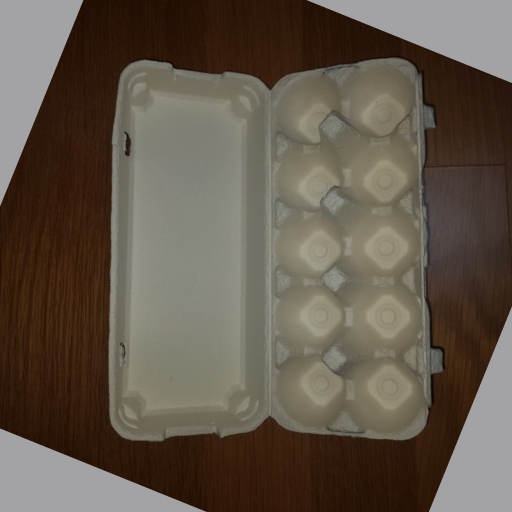Paper_0: (107, 50, 444, 449)
